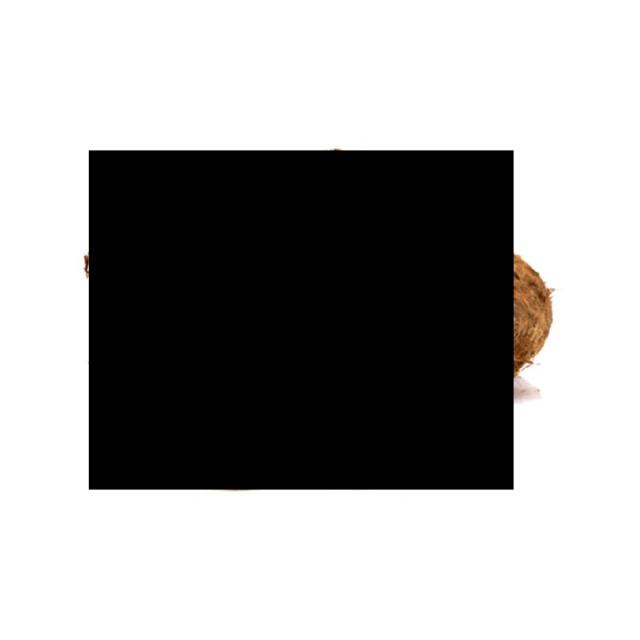Taro_Root: (89, 150, 514, 490)
